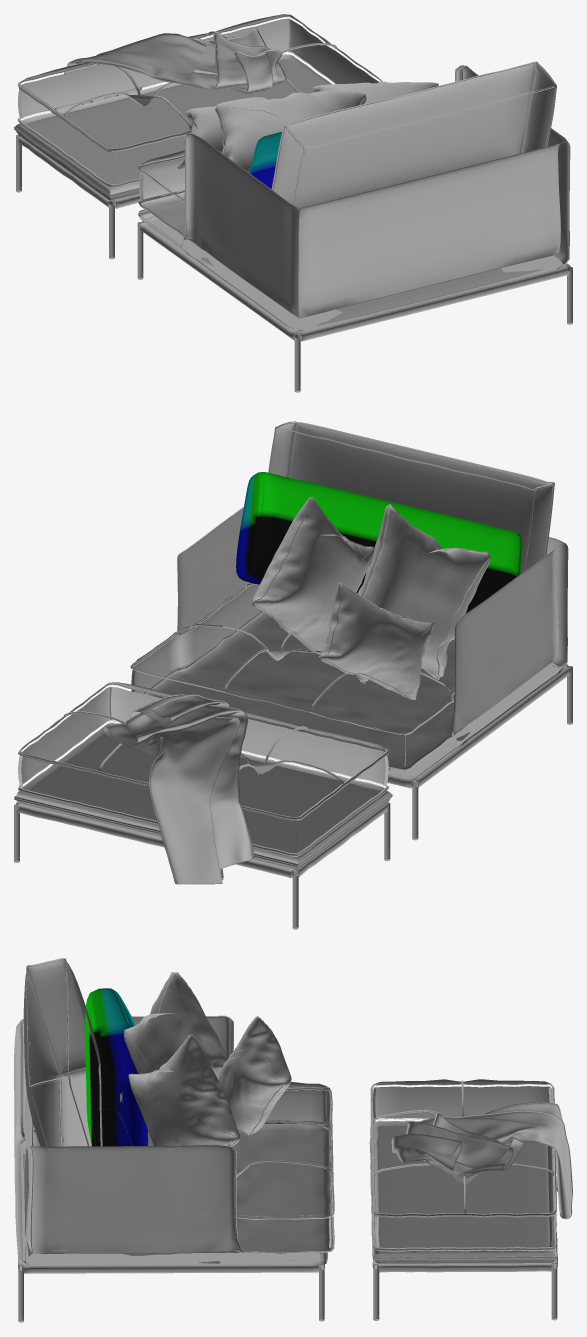
The model's file is Sofa_A.glb.
The picture shows the model from 3 angles, top to bottom: view 1: azimuth 30°, elevation 25°; view 2: azimuth 150°, elevation 25°; view 3: azimuth 270°, elevation 25°; orthographic projection. The views are drawn at different scales.
Parts seen in each view (by area): view 1: Sofa_A_Seat, Sofa_A_Cushion_4:PIV, Sofa_A_Legs_2, Sofa_A_Cushion_3, Sofa_A_Wood:PIV, Sofa_A_Blanket, Sofa_A_Pillow:PIV, Sofa_A_Trim:PIV, Sofa_A_Cushion_2, Sofa_A_Legs_1:PIV, Sofa_A_Cushion_1; view 2: Sofa_A_Pillow:PIV, Sofa_A_Cushion_2, Sofa_A_Seat, Sofa_A_Blanket, Sofa_A_Cushion_4:PIV, Sofa_A_Legs_2, Sofa_A_Cushion_1, Sofa_A_Cushion_3, Sofa_A_Trim:PIV, Sofa_A_Wood:PIV, Sofa_A_Legs_1:PIV; view 3: Sofa_A_Seat, Sofa_A_Pillow:PIV, Sofa_A_Legs_2, Sofa_A_Cushion_2, Sofa_A_Cushion_4:PIV, Sofa_A_Blanket, Sofa_A_Wood:PIV, Sofa_A_Trim:PIV, Sofa_A_Cushion_1, Sofa_A_Cushion_3, Sofa_A_Legs_1:PIV.
Boxes of the visible parts, x1,y1,x2,y2 form: Sofa_A_Seat: [139, 65, 570, 330]; Sofa_A_Cushion_4:PIV: [272, 62, 555, 207]; Sofa_A_Legs_2: [15, 59, 323, 200]; Sofa_A_Cushion_3: [18, 14, 379, 183]; Sofa_A_Wood:PIV: [18, 136, 570, 341]; Sofa_A_Blanket: [51, 28, 286, 112]; Sofa_A_Pillow:PIV: [177, 81, 438, 172]; Sofa_A_Trim:PIV: [14, 16, 570, 329]; Sofa_A_Cushion_2: [139, 150, 189, 237]; Sofa_A_Legs_1:PIV: [16, 134, 572, 392]; Sofa_A_Cushion_1: [249, 132, 281, 188]; Sofa_A_Pillow:PIV: [252, 497, 491, 699]; Sofa_A_Cushion_2: [131, 582, 454, 770]; Sofa_A_Seat: [177, 507, 568, 781]; Sofa_A_Blanket: [103, 694, 254, 884]; Sofa_A_Cushion_4:PIV: [269, 422, 553, 573]; Sofa_A_Legs_2: [15, 733, 390, 869]; Sofa_A_Cushion_1: [236, 472, 522, 613]; Sofa_A_Cushion_3: [18, 682, 388, 855]; Sofa_A_Trim:PIV: [14, 421, 568, 867]; Sofa_A_Wood:PIV: [16, 662, 570, 878]; Sofa_A_Legs_1:PIV: [14, 666, 572, 929]; Sofa_A_Seat: [14, 1016, 327, 1264]; Sofa_A_Pillow:PIV: [123, 972, 291, 1146]; Sofa_A_Legs_2: [374, 1125, 555, 1263]; Sofa_A_Cushion_2: [31, 1082, 334, 1253]; Sofa_A_Cushion_4:PIV: [23, 959, 102, 1146]; Sofa_A_Blanket: [391, 1102, 572, 1219]; Sofa_A_Wood:PIV: [17, 1138, 557, 1273]; Sofa_A_Trim:PIV: [17, 958, 556, 1264]; Sofa_A_Cushion_1: [85, 988, 148, 1146]; Sofa_A_Cushion_3: [370, 1079, 556, 1251]; Sofa_A_Legs_1:PIV: [18, 1173, 557, 1322].
Bounding box in the file's own units: 9.62 × 7.92 × 16.67.
